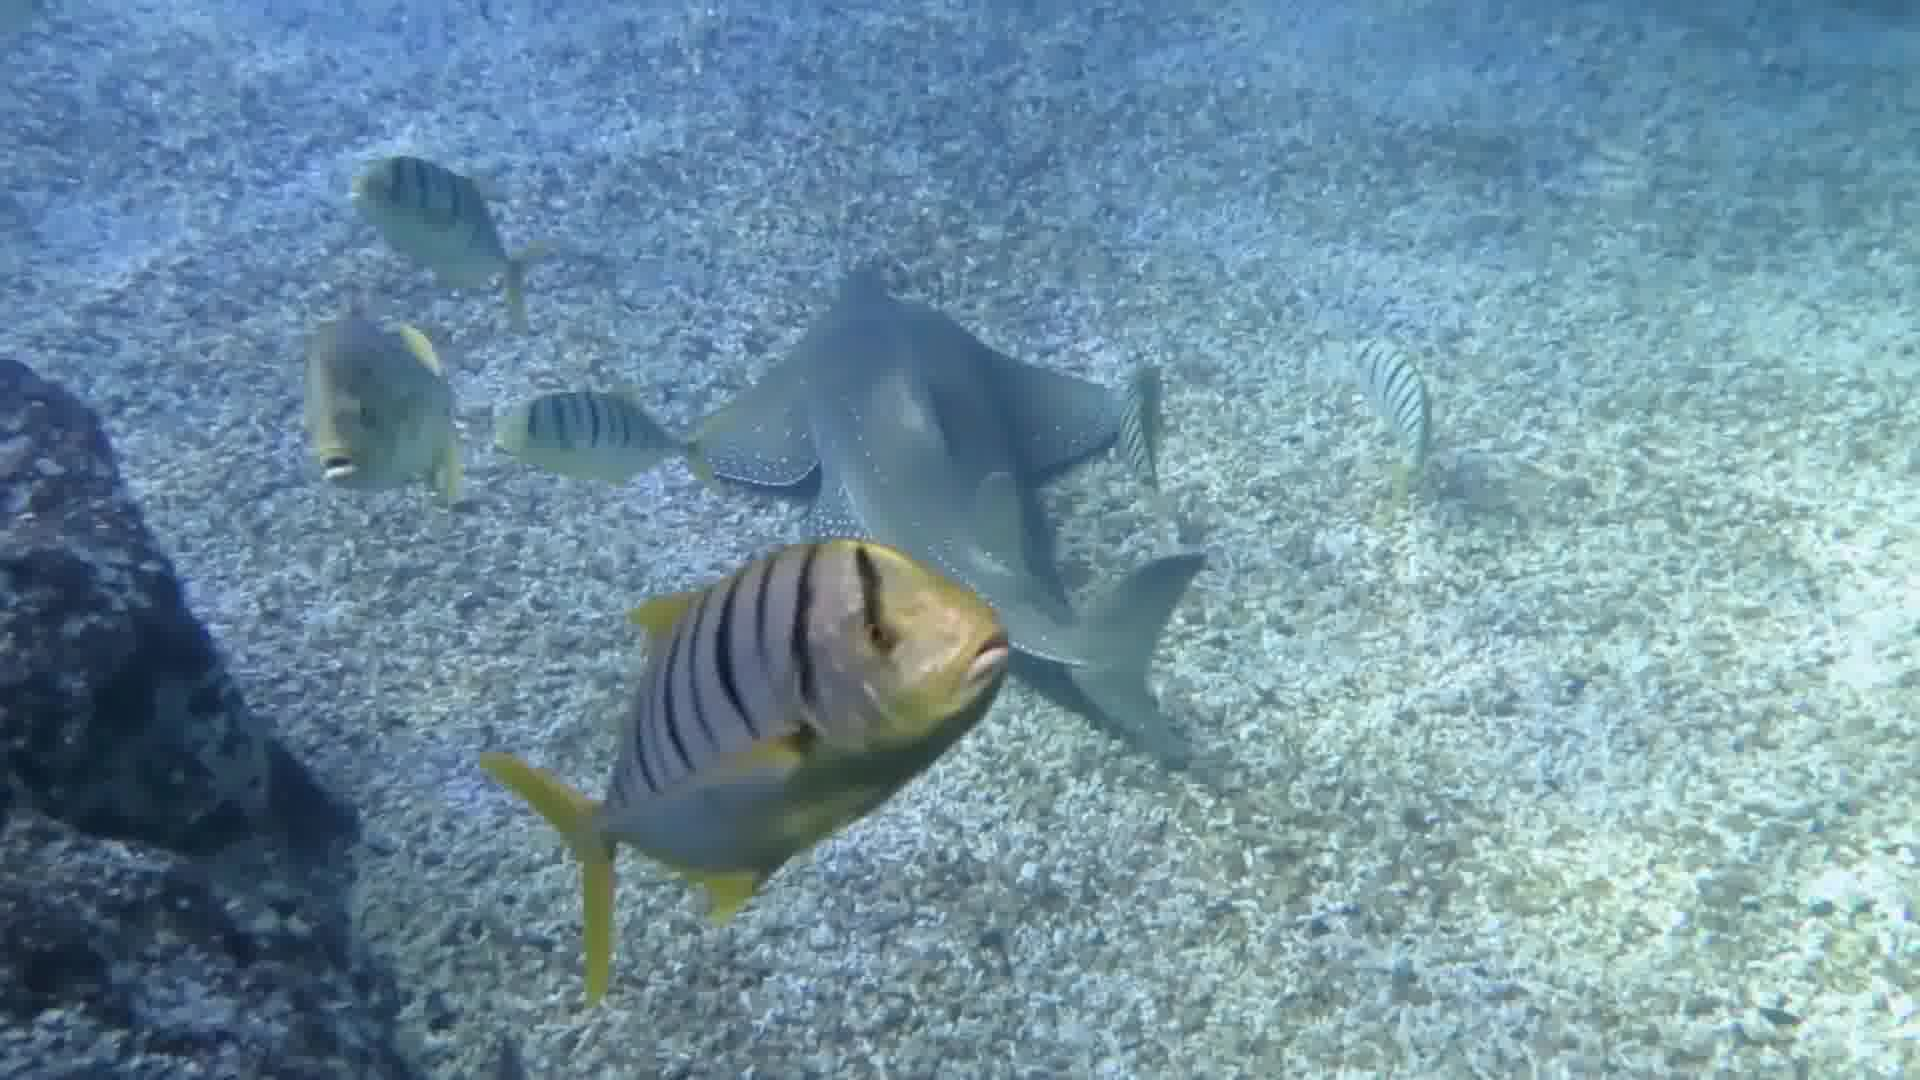Rhychobatus djiddensis: (705, 173, 1251, 678)
